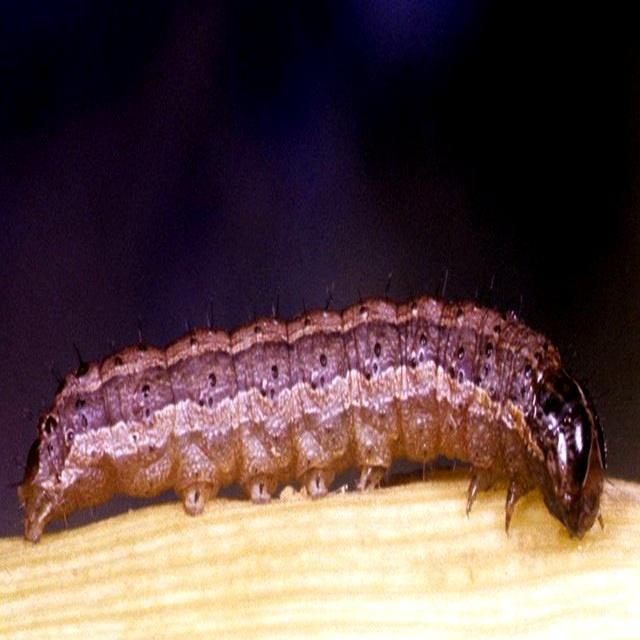gusano_cogollero: (11, 273, 614, 552)
